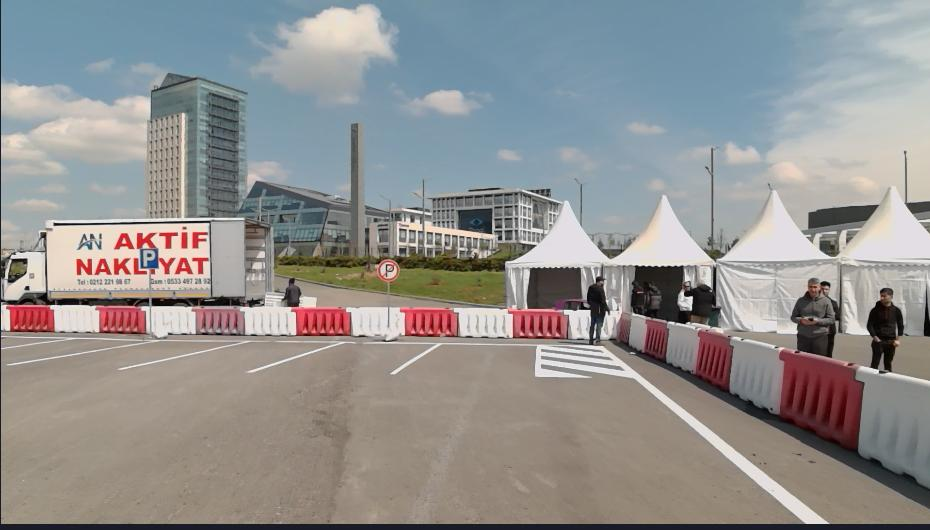nesne: (114, 337, 829, 522), (2, 336, 649, 381), (0, 217, 274, 307), (0, 304, 589, 340), (857, 365, 929, 489), (780, 346, 863, 450), (728, 337, 783, 416), (115, 341, 251, 371), (789, 278, 839, 356), (5, 341, 155, 367), (867, 287, 907, 370), (246, 342, 344, 374), (536, 346, 634, 378), (695, 327, 733, 393), (509, 307, 570, 338), (453, 308, 514, 338), (387, 342, 442, 375), (398, 306, 458, 336), (667, 322, 700, 376), (586, 275, 611, 346), (347, 306, 406, 336), (140, 304, 198, 334), (292, 308, 352, 336), (238, 306, 296, 334), (192, 305, 246, 335), (94, 305, 146, 333), (2, 305, 55, 332), (54, 304, 100, 332), (645, 316, 669, 362), (692, 278, 714, 324), (642, 280, 662, 318), (563, 310, 588, 340), (279, 275, 302, 307), (676, 280, 693, 323), (631, 314, 648, 354), (614, 311, 634, 343), (378, 256, 400, 282), (630, 280, 646, 314), (139, 248, 160, 267)
